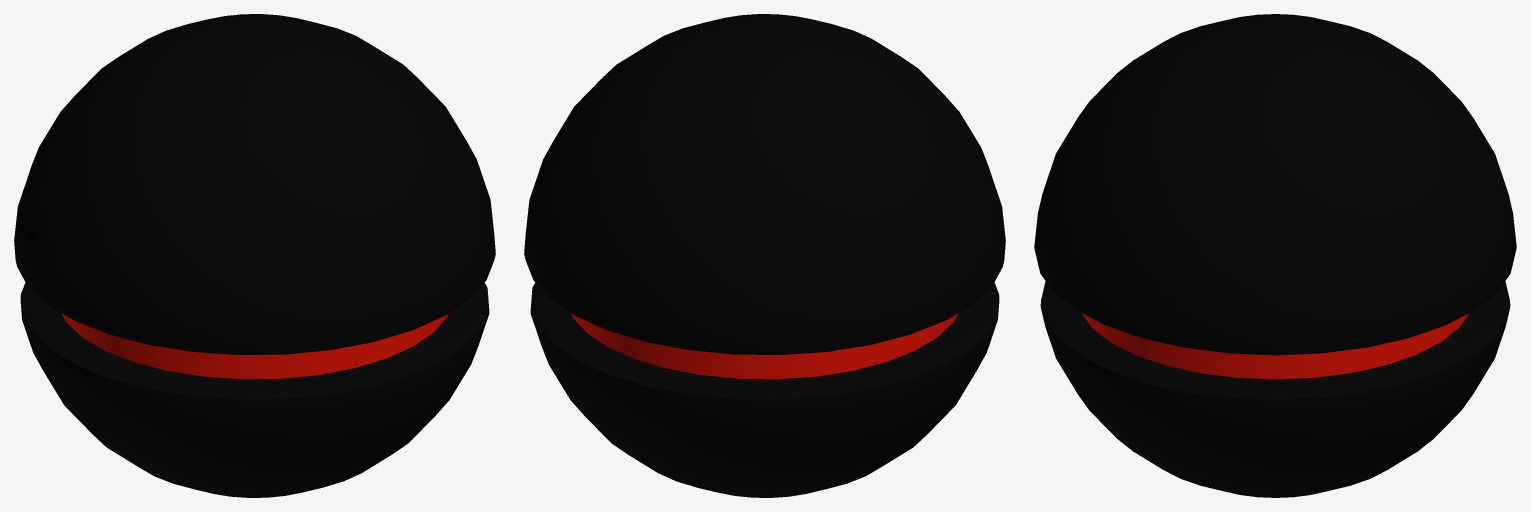
The model's file is Robot1Model2(fixedRotation).fbx.
3 views of the same model, side by side, from view 1: azimuth 30°, elevation 25°; view 2: azimuth 150°, elevation 25°; view 3: azimuth 270°, elevation 25° (orthographic).
Parts seen in each view (by area): view 1: Sphere001; view 2: Sphere001; view 3: Sphere001.
Part boxes in pixels (x1,y1,x2,y2): Sphere001: (14,14,495,497); Sphere001: (524,14,1005,497); Sphere001: (1034,14,1516,497).
Bounding box in the file's own units: 28.6 × 28.71 × 28.6.
